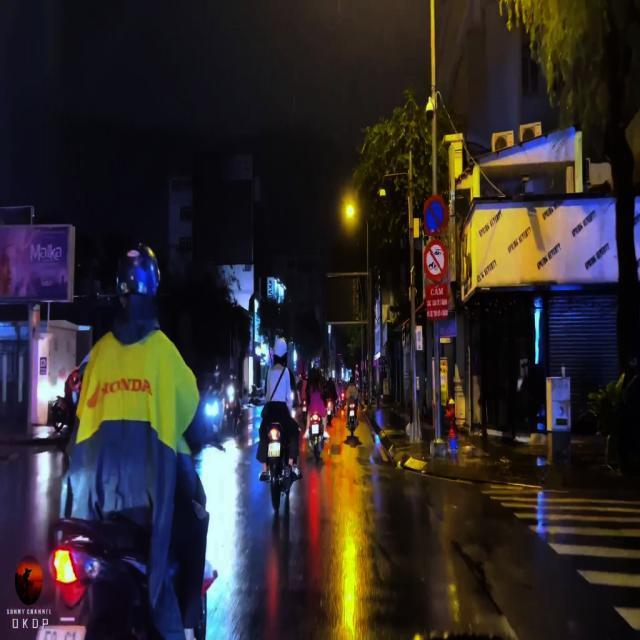131a-cam-do-xe: (422, 195, 448, 237)
